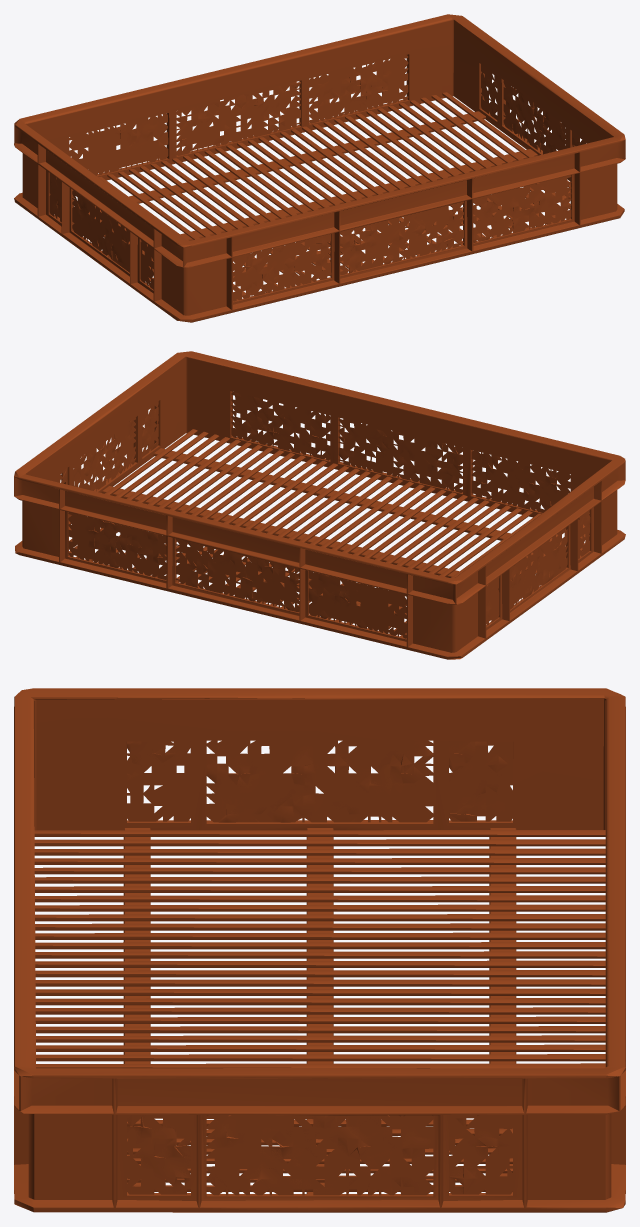
Rendered from tote_orange.glb.
3 renders of one model, top to bottom at view 1: azimuth 30°, elevation 25°; view 2: azimuth 150°, elevation 25°; view 3: azimuth 270°, elevation 25°, orthographic. The views are drawn at different scales.
Parts seen in each view (by area): view 1: tote_orange_mesh; view 2: tote_orange_mesh; view 3: tote_orange_mesh.
Boxes of the visible parts, <box> form: tote_orange_mesh: <box>14,14,625,322</box>; tote_orange_mesh: <box>14,351,625,659</box>; tote_orange_mesh: <box>14,688,625,1212</box>.
Bounding box in the file's own units: 0.6015 × 0.1 × 0.4017.
